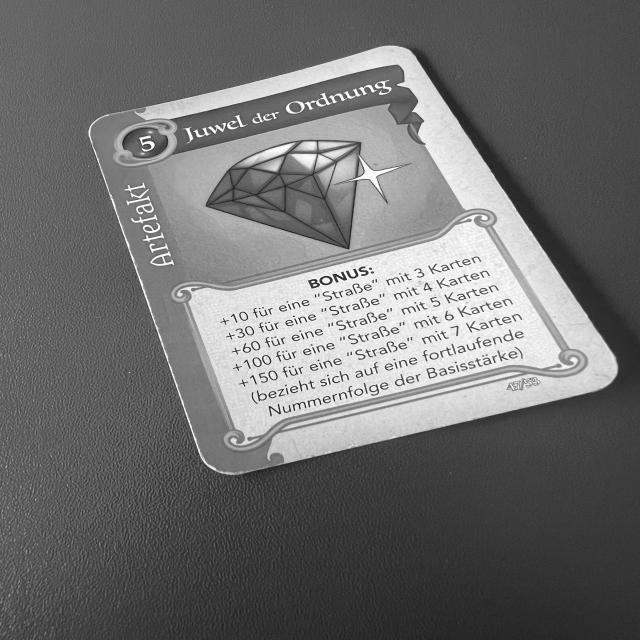Gem Of Order: (73, 42, 630, 486)
